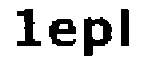1: (13, 5, 44, 52)
I: (119, 7, 137, 48)
e: (48, 17, 78, 52)
p: (82, 13, 114, 60)
